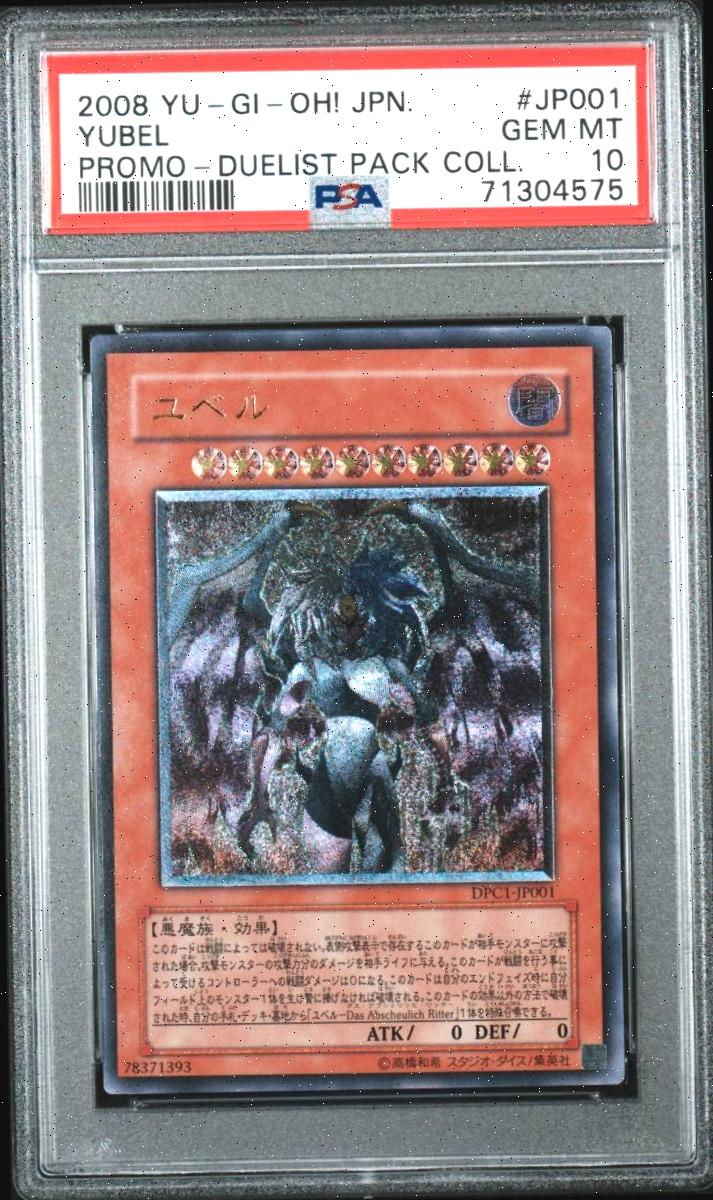card-2UtV: (88, 324, 625, 1095)
